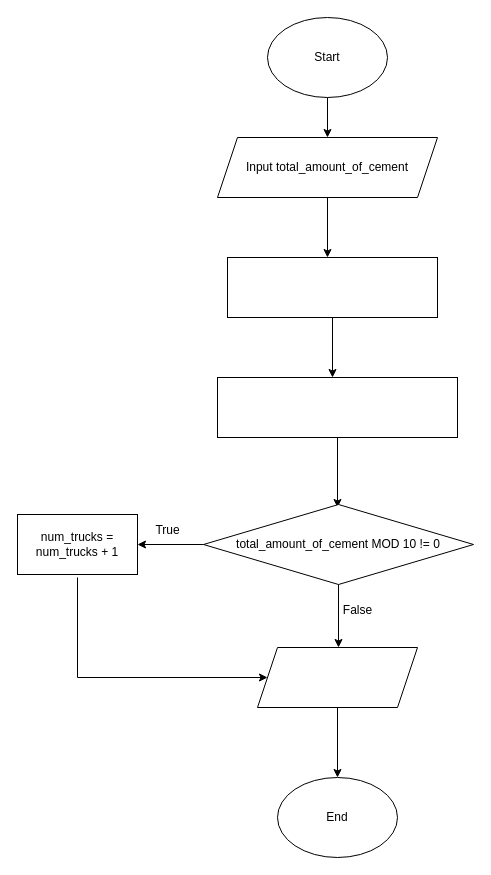
Some shapes in this 491 by 875 pixel diagram are drawn without their labels. Here are the shapes that lost their labels. From the top down, the centre of each, then its label:
pixel 332 287: truck_capacity = 10
pixel 337 407: num_trucks = total_amount_of_cement / truck_capacity
pixel 337 677: Print num_trucks
